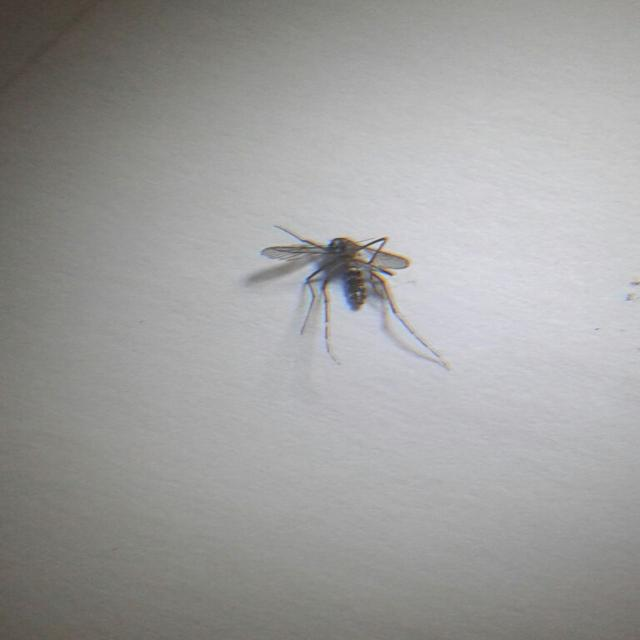albopictus: (239, 221, 459, 375)
